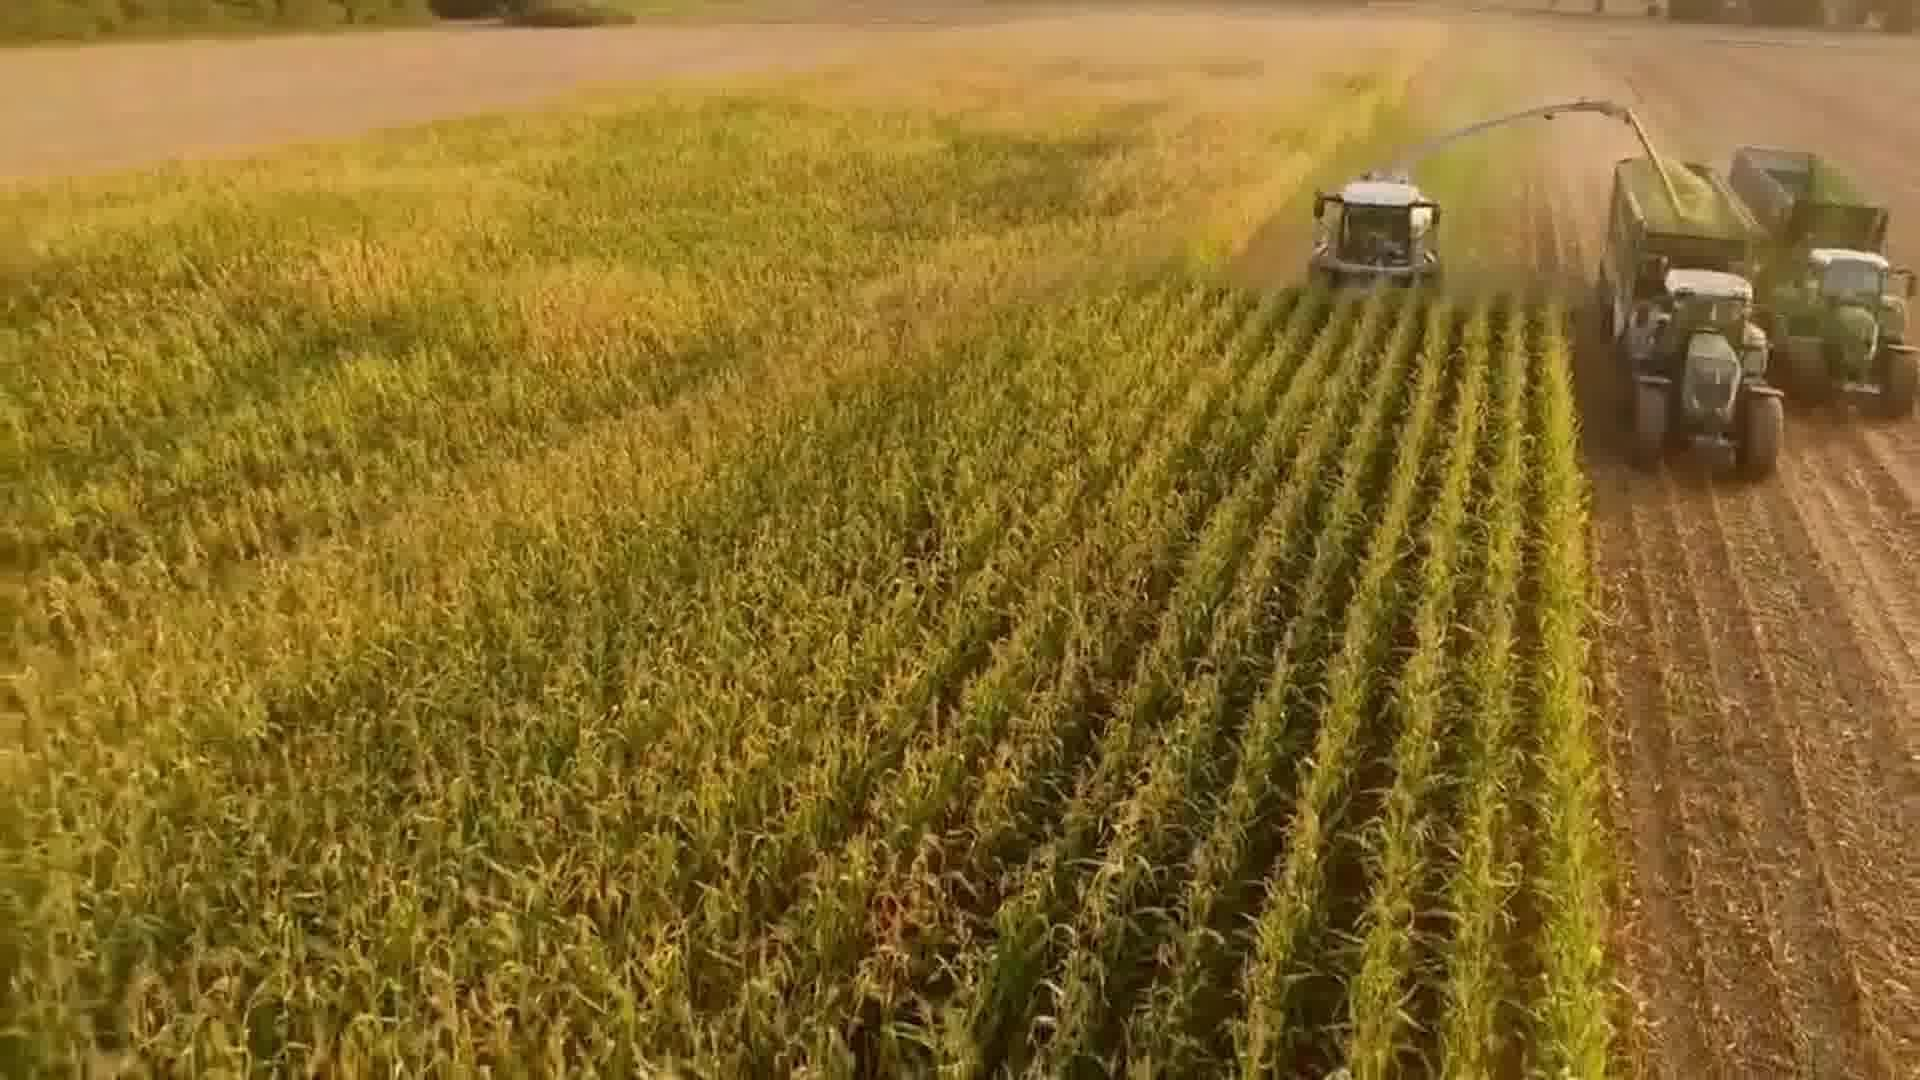combine harvester: (1299, 86, 1635, 323)
tractor: (1614, 258, 1787, 488), (1763, 245, 1920, 422)
trailer: (1597, 149, 1750, 320), (1730, 137, 1900, 256)
